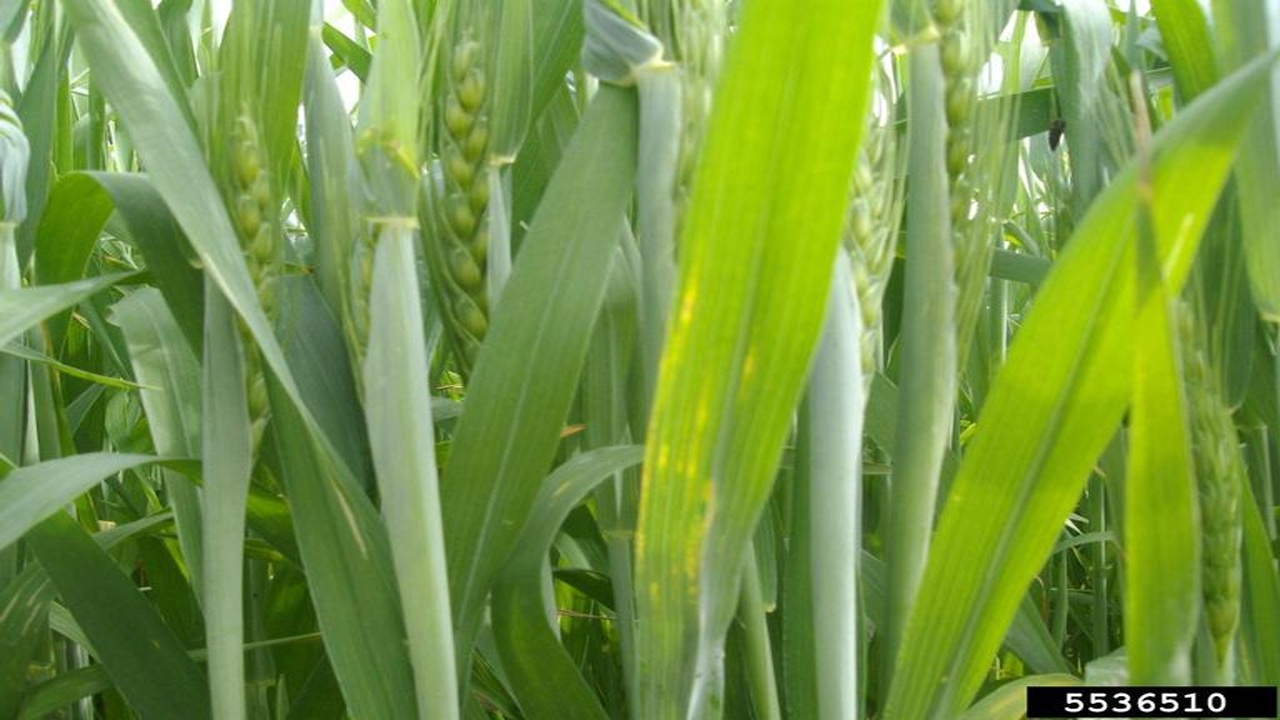stripe_rust: (640, 1, 846, 693)
